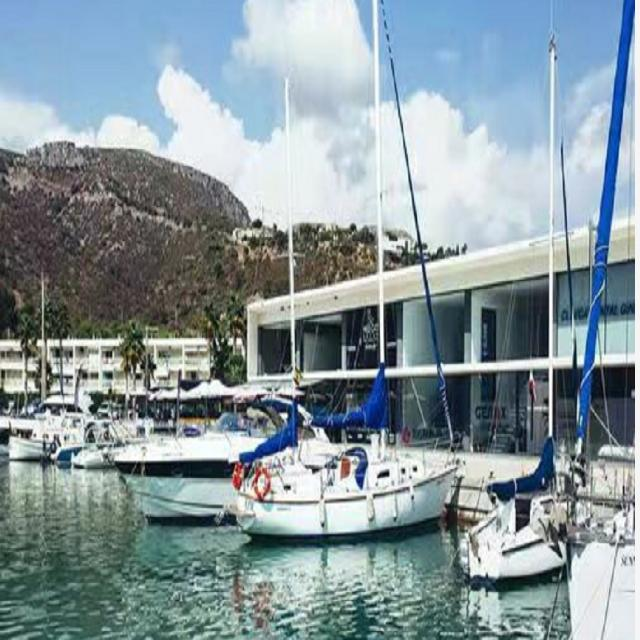houseboat: (225, 366, 454, 550)
